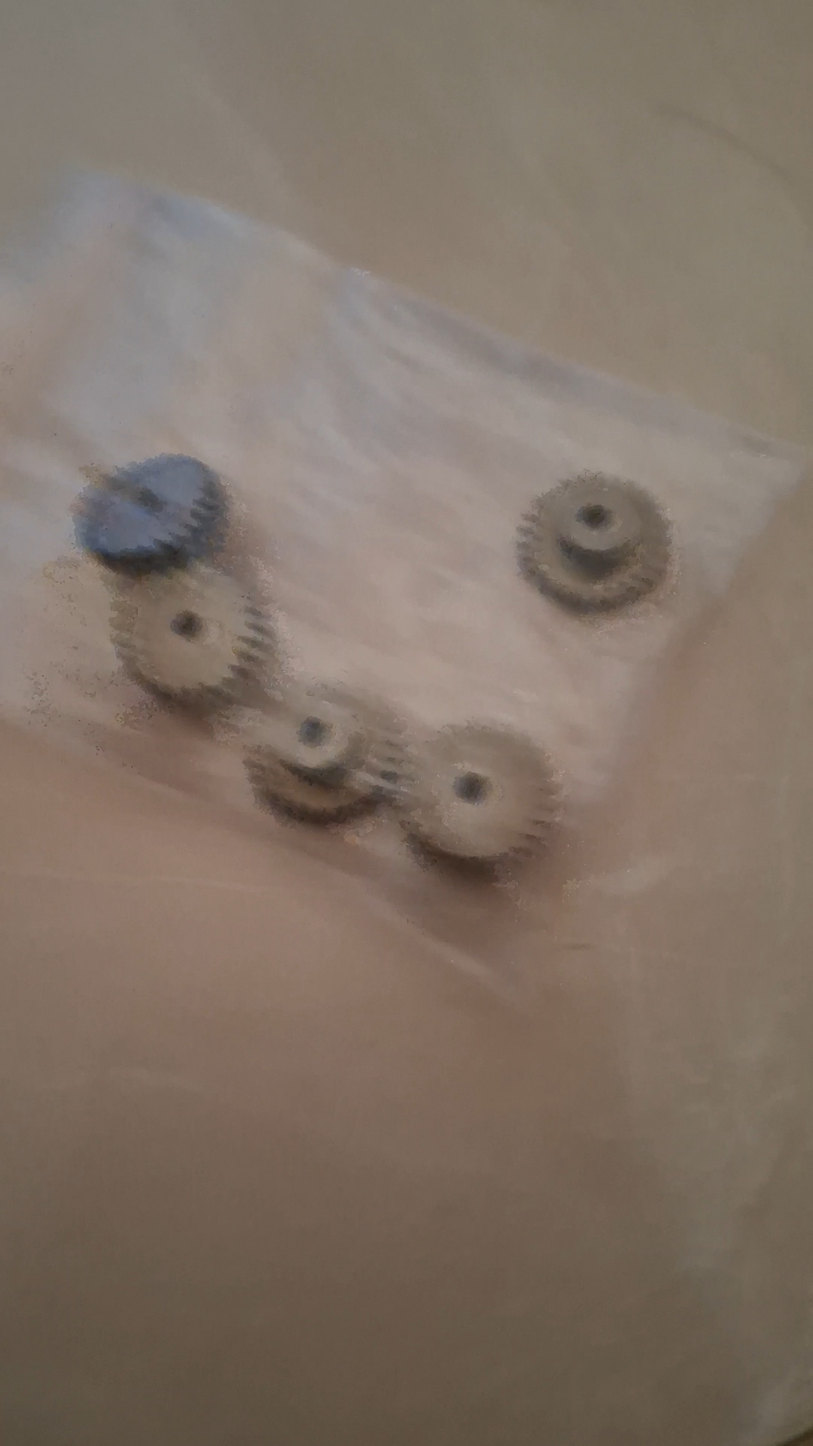spur gear: (112, 563, 273, 709), (243, 682, 404, 822), (404, 725, 559, 864), (518, 474, 669, 611), (75, 455, 226, 575)
